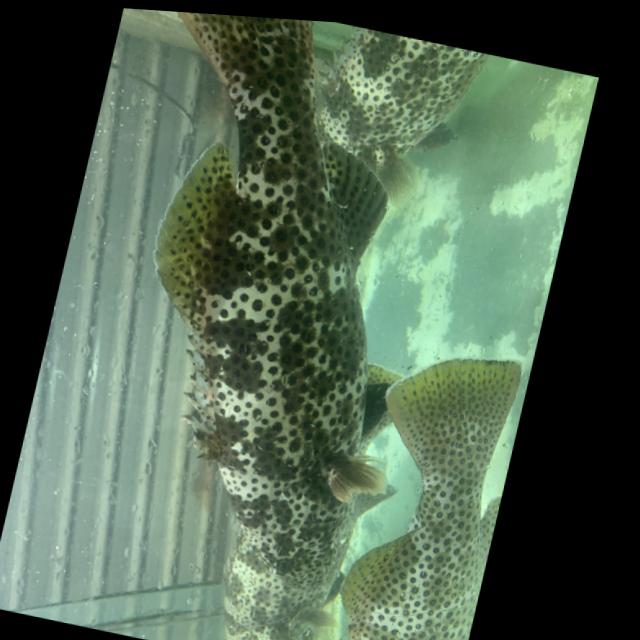Groupers: (21, 5, 454, 596), (318, 331, 534, 640)
